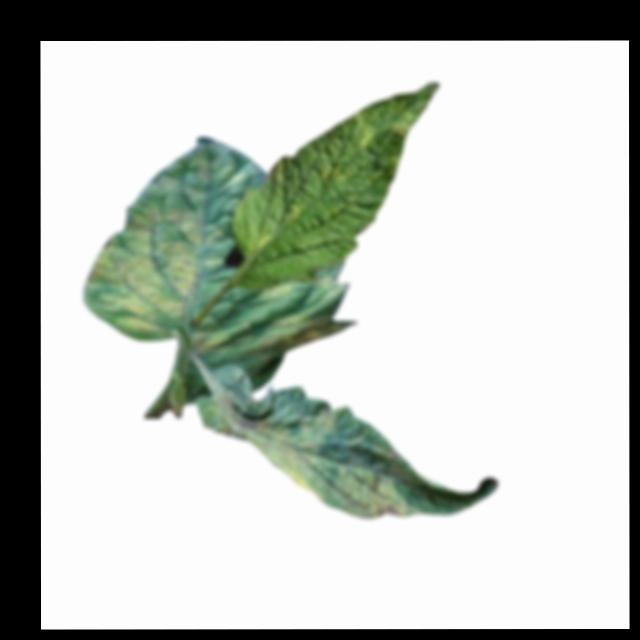Leaf_Mold: (206, 393, 420, 519), (81, 143, 200, 341), (247, 277, 351, 353), (347, 103, 417, 148)
